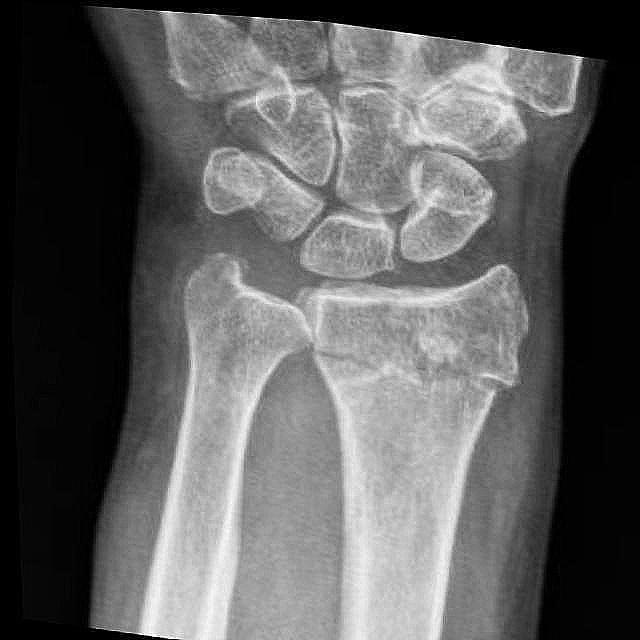bone: (288, 255, 536, 452)
